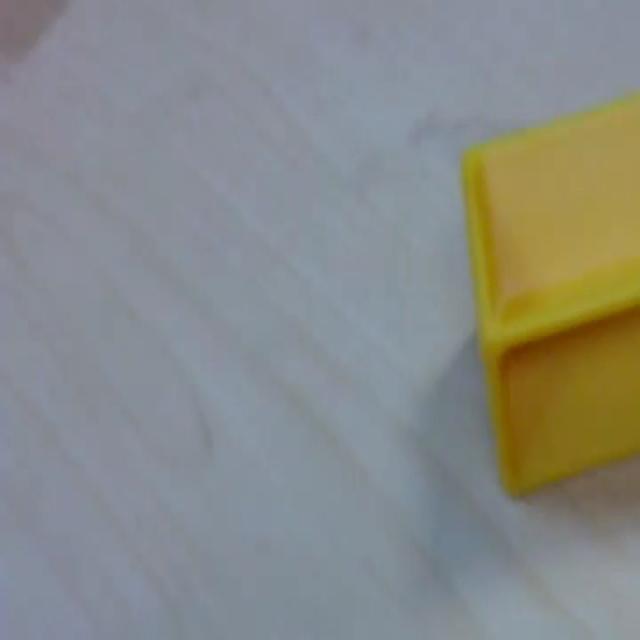yellow_block: (459, 89, 639, 499)
